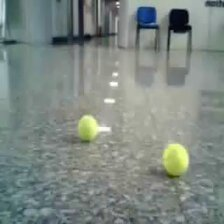tennis: (161, 142, 190, 175), (79, 115, 96, 141)
